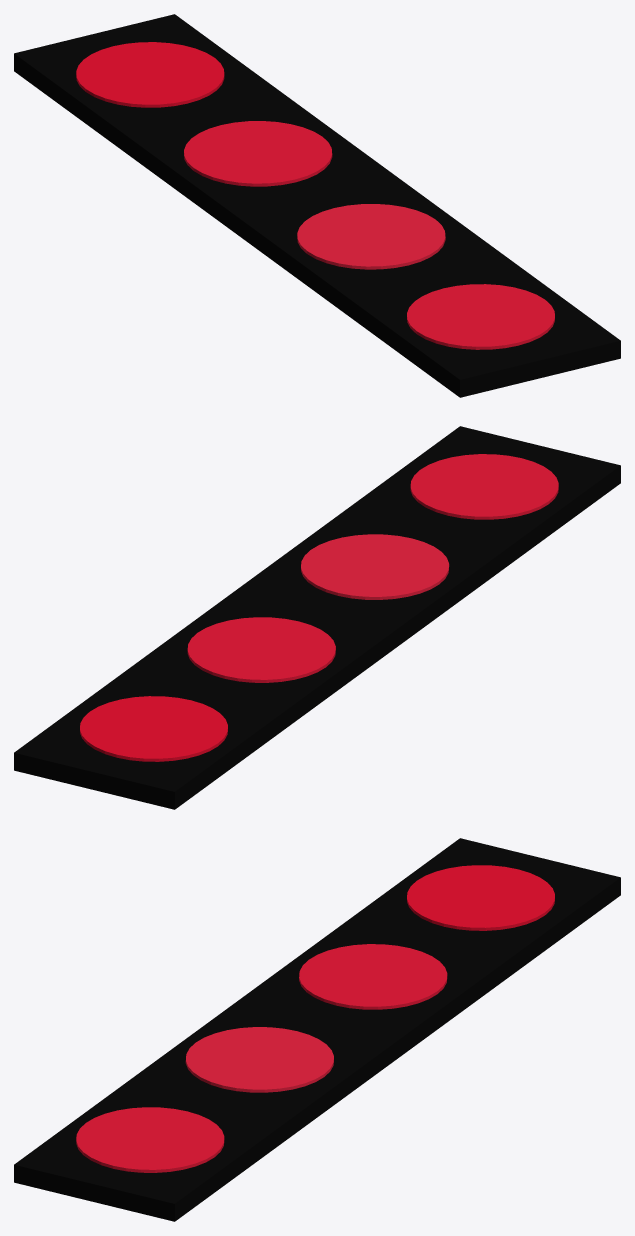
Rendered from taptapx2.fbx.
The picture shows the model from 3 angles, top to bottom: view 1: azimuth 30°, elevation 25°; view 2: azimuth 150°, elevation 25°; view 3: azimuth 330°, elevation 25°; orthographic projection.
Visible parts, largest first — view 1: Cube, Cylinder, Cylinder.001, Cylinder.002, Cylinder.003; view 2: Cube, Cylinder.003, Cylinder.002, Cylinder, Cylinder.001; view 3: Cube, Cylinder.002, Cylinder, Cylinder.001, Cylinder.003.
Part boxes in pixels (x1,y1,x2,y2): Cube: (14, 14, 620, 397); Cylinder: (407, 284, 554, 349); Cylinder.001: (297, 204, 445, 269); Cylinder.002: (184, 121, 332, 186); Cylinder.003: (76, 42, 224, 107); Cube: (14, 426, 620, 809); Cylinder.003: (80, 696, 227, 761); Cylinder.002: (187, 617, 335, 682); Cylinder: (410, 454, 558, 519); Cylinder.001: (301, 534, 449, 599); Cube: (14, 838, 620, 1221); Cylinder.002: (299, 944, 447, 1009); Cylinder: (76, 1107, 224, 1172); Cylinder.001: (185, 1027, 333, 1092); Cylinder.003: (407, 865, 554, 930).
Size of the model in its own units: 200 by 24.88 by 961.
